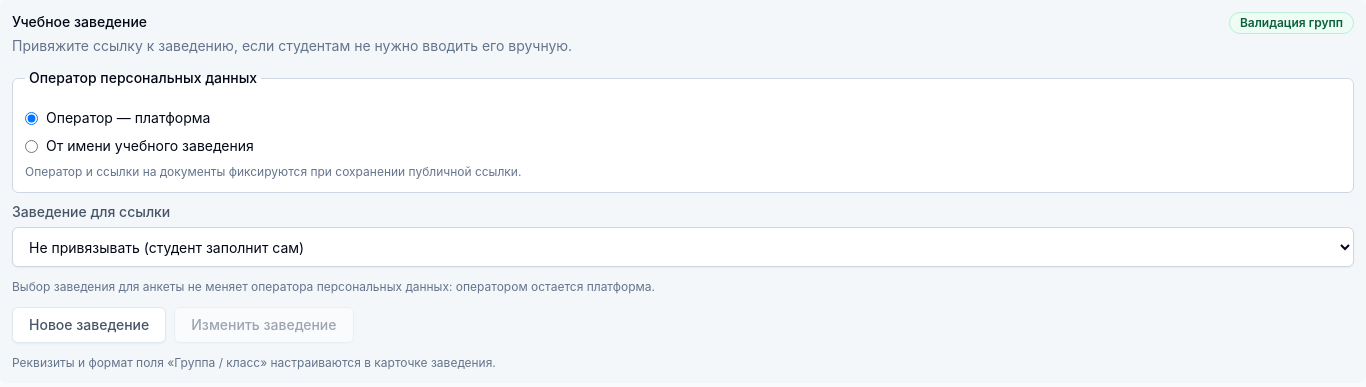
Scenario: PublicLinkOrganizationSection › explains PUBLIC profile locking and hides the note for the organization operator
The image size is (1366, 387).
Check: the text "Выбор заведения для анкеты не меняет оператора персональных данных" is shown, box [12,279,655,294]
Click the radio button labelled "От имени учебного заведения": [32, 146] box [25,140,38,152]
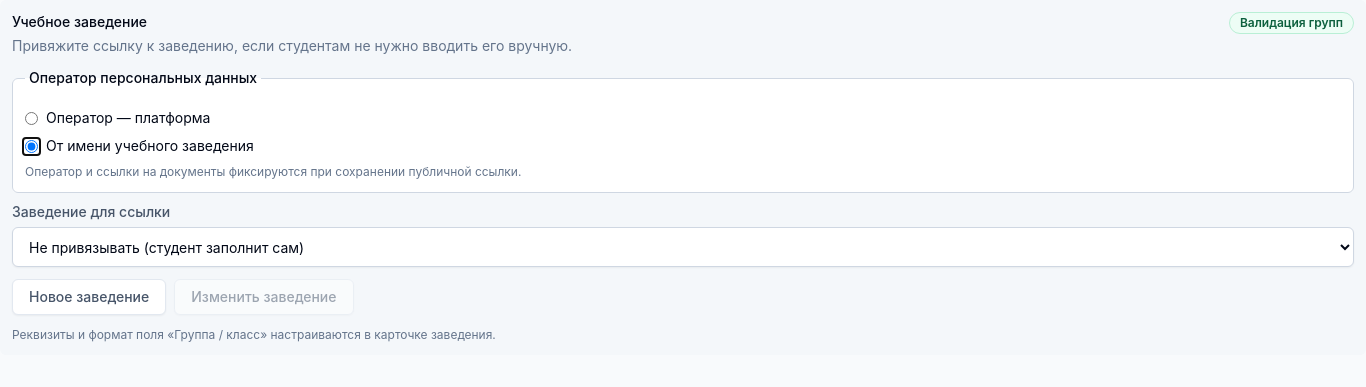
Check: the text "Выбор заведения для анкеты не меняет оператора персональных данных" is gone
